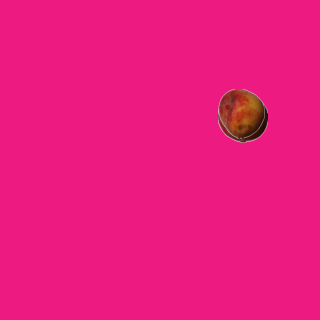Apple Braeburn: (217, 92, 267, 142)
Peach: (216, 88, 266, 138)
